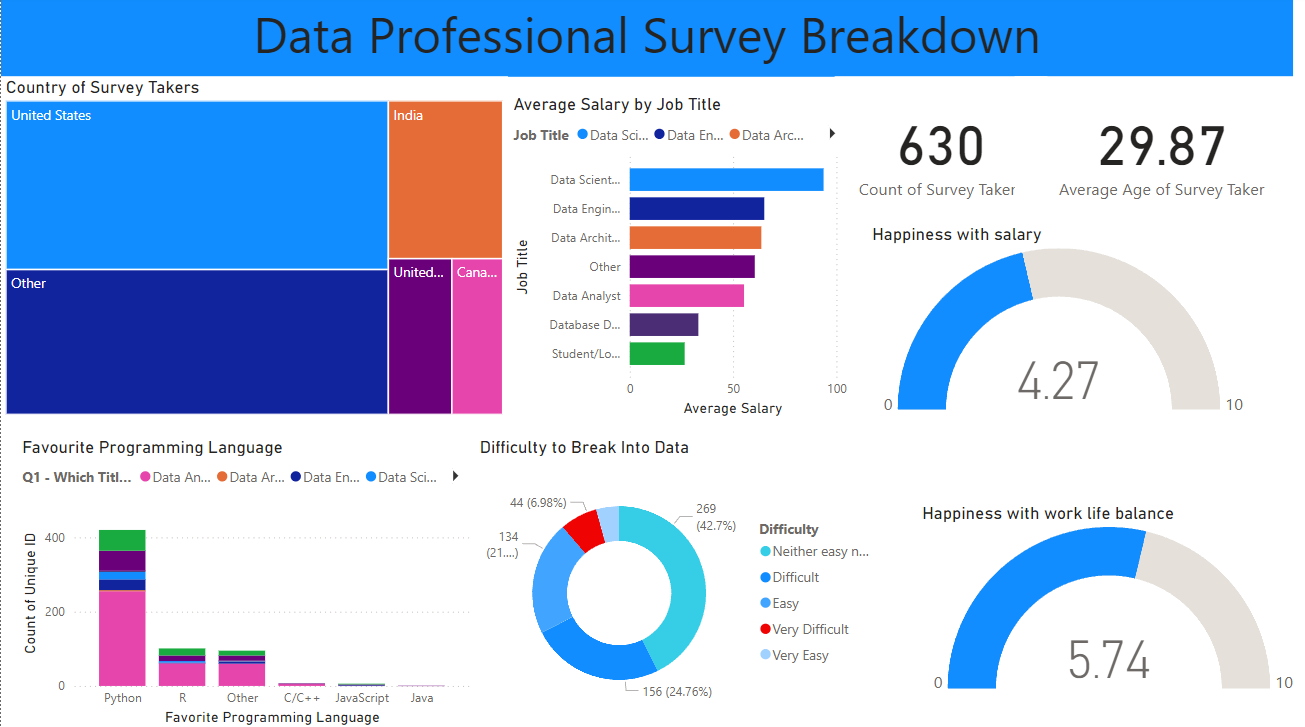

Layout of this report page (visuals, bound fields, positions):
{"tool":"powerbi","page":{"name":"Page 1","canvas":[1280,720],"ordinal":0},"visuals":[{"type":"textbox","box":[16,0,1248,80],"z":0},{"type":"card","fields":{"Values":["Count(Data Professional Survey.Unique ID)"]},"box":[816,80,208,144],"z":1000},{"type":"card","fields":{"Values":["Avg(Data Professional Survey.Q10 - Current Age)"]},"box":[992,80,288,144],"z":2000},{"type":"barChart","title":"Average Salary by Job Title","fields":{"Category":["Data Professional Survey.Q1 - Which Title Best Fits your Current Role?.1"],"Y":["Avg(Data Professional Survey.Average Salary)"],"Series":["Data Professional Survey.Q1 - Which Title Best Fits your Current Role?.1"]},"box":[496,96,336,320],"z":3000},{"type":"columnChart","title":"Favourite Programming Language","fields":{"Category":["Data Professional Survey.Q5 - Favorite Programming Language.1"],"Y":["Count(Data Professional Survey.Unique ID)"],"Series":["Data Professional Survey.Q1 - Which Title Best Fits your Current Role?.1"]},"box":[16,432,448,288],"z":4000},{"type":"treemap","title":"Country of Survey Takers","fields":{"Group":["Data Professional Survey.Q11 - Which Country do you live in?.1"],"Values":["CountNonNull(Data Professional Survey.Q11 - Which Country do you live in?.1)"]},"box":[0,80,496,336],"z":5000},{"type":"gauge","title":"Happiness with salary","fields":{"Y":["Avg(Data Professional Survey.Q6 - How Happy are you in your Current Position with the following? (Salary))"],"MinValue":["Min(Data Professional Survey.Q6 - How Happy are you in your Current Position with the following? (Salary))1"],"MaxValue":["Max(Data Professional Survey.Q6 - How Happy are you in your Current Position with the following? (Salary))2"]},"box":[848,224,384,192],"z":6000},{"type":"gauge","title":"Happiness with work life balance","fields":{"Y":["Avg(Data Professional Survey.Q6 - How Happy are you in your Current Position with the following? (Work/Life Balance))"],"MinValue":["Min(Data Professional Survey.Q6 - How Happy are you in your Current Position with the following? (Work/Life Balance))1"],"MaxValue":["Max(Data Professional Survey.Q6 - How Happy are you in your Current Position with the following? (Work/Life Balance))2"]},"box":[896,496,384,192],"z":7000},{"type":"donutChart","title":"Difficulty to Break Into Data","fields":{"Category":["Data Professional Survey.Q7 - How difficult was it for you to break into Data?"],"Y":["CountNonNull(Data Professional Survey.Q7 - How difficult was it for you to break into Data?)"]},"box":[464,432,400,288],"z":7001}]}

Visuals, with their boxes in screenshot pixels (x1, y1, x2, y2), scaled from the page's 1280x720 canvas onto the 1305x727 screenshot:
textbox: Rect(16, 0, 1289, 81)
card - Count(Data Professional Survey.Unique ID): Rect(832, 81, 1044, 226)
card - Avg(Data Professional Survey.Q10 - Current Age): Rect(1011, 81, 1304, 226)
"Average Salary by Job Title" barChart: Rect(506, 97, 848, 420)
"Favourite Programming Language" columnChart: Rect(16, 436, 473, 726)
"Country of Survey Takers" treemap: Rect(0, 81, 506, 420)
"Happiness with salary" gauge: Rect(865, 226, 1256, 420)
"Happiness with work life balance" gauge: Rect(914, 501, 1304, 695)
"Difficulty to Break Into Data" donutChart: Rect(473, 436, 881, 726)
